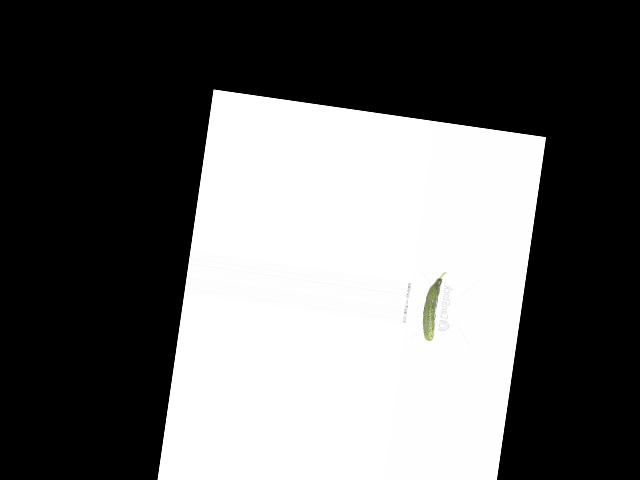cucumber: (419, 269, 446, 341)
